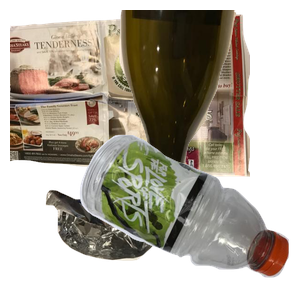glass: (117, 10, 300, 190)
paper: (10, 11, 250, 180)
plastic: (77, 132, 300, 300)
trash: (43, 187, 234, 300)
